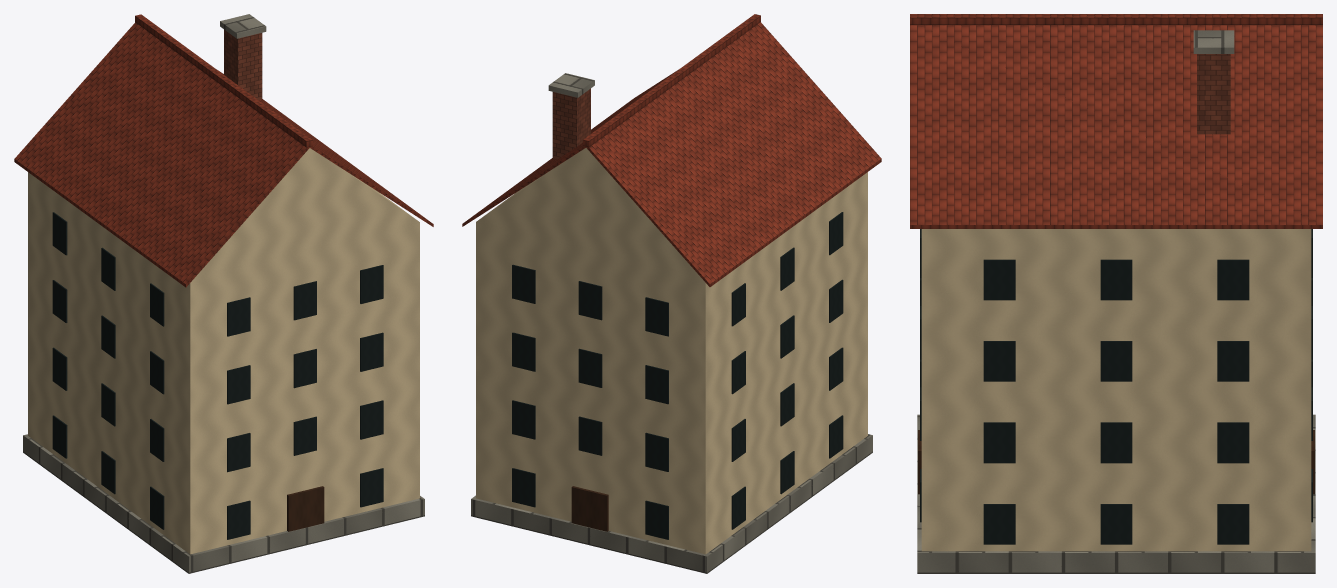
Rendered from SG_House_B_Tall_LOD2.fbx.
3 views of the same model, side by side, from view 1: azimuth 30°, elevation 25°; view 2: azimuth 150°, elevation 25°; view 3: azimuth 270°, elevation 25° (orthographic). The views are drawn at different scales.
Parts seen in each view (by area): view 1: SG_House_B_Tall_Detail2; view 2: SG_House_B_Tall_Detail2; view 3: SG_House_B_Tall_Detail2.
Part boxes in pixels (bbox=[...]): SG_House_B_Tall_Detail2: bbox=[14, 14, 433, 573]; SG_House_B_Tall_Detail2: bbox=[462, 14, 881, 573]; SG_House_B_Tall_Detail2: bbox=[910, 14, 1322, 573].
Size of the model in its own units: 19.4 by 31.2 by 23.3.
